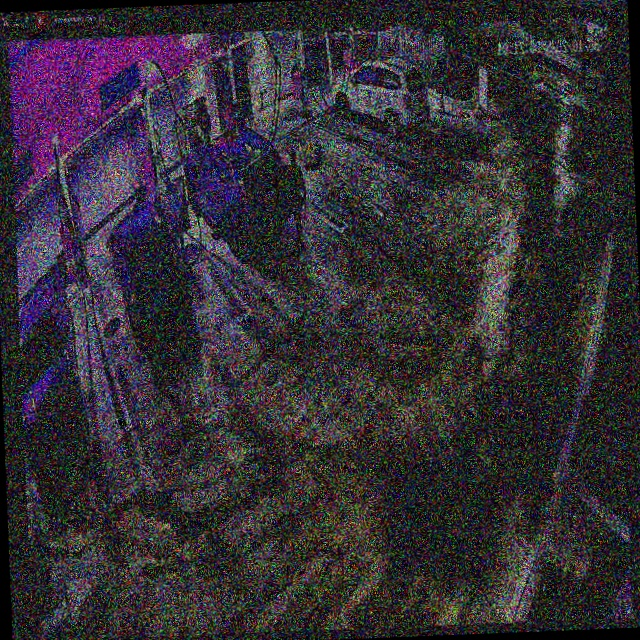Car: (183, 125, 294, 254), (107, 190, 194, 345)
